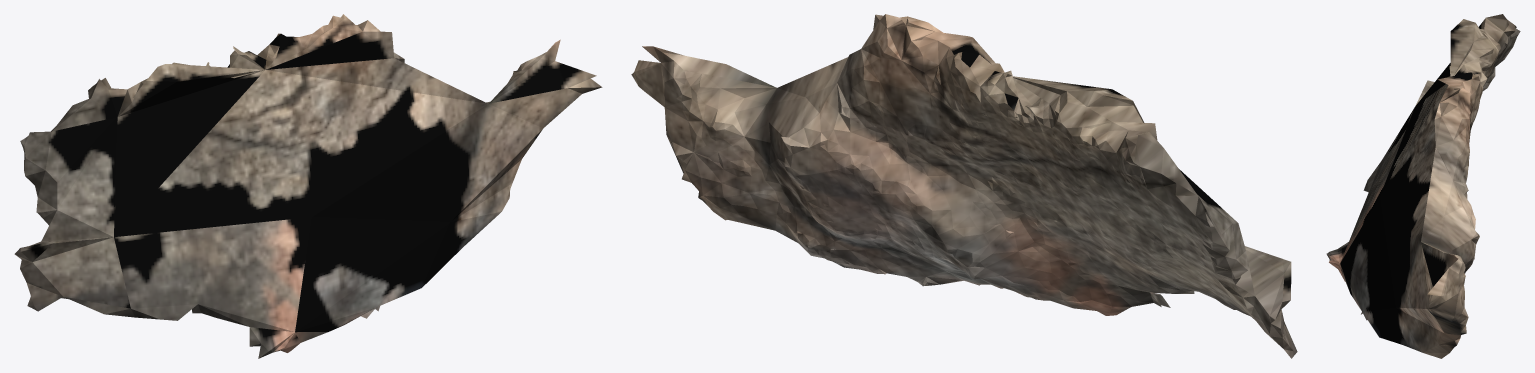
File: texturedMesh.obj
The picture shows the model from 3 angles, left to right: view 1: azimuth 30°, elevation 25°; view 2: azimuth 150°, elevation 25°; view 3: azimuth 270°, elevation 25°; orthographic projection. The views are drawn at different scales.
Parts seen in each view (by area): view 1: TexturedMesh; view 2: TexturedMesh; view 3: TexturedMesh.
Part boxes in pixels (bbox=[...]): TexturedMesh: bbox=[14, 14, 602, 358]; TexturedMesh: bbox=[631, 14, 1297, 358]; TexturedMesh: bbox=[1326, 14, 1520, 358].
Size of the model in its own units: 0.682 by 0.3058 by 0.2183.
Materials: 1 (1 with a texture image).
